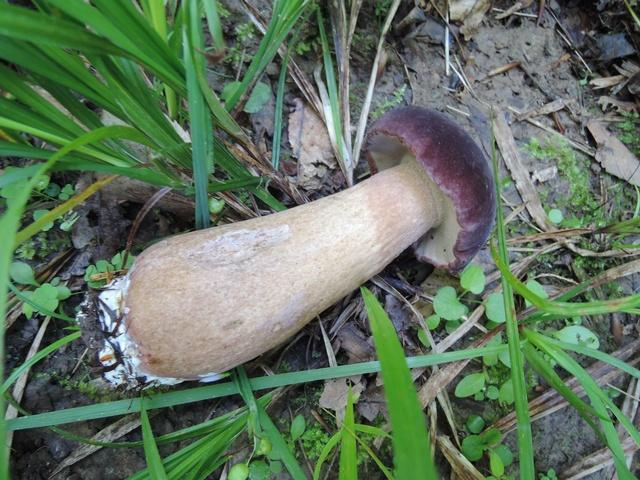Non-edible Mushroom: (88, 103, 498, 389)
